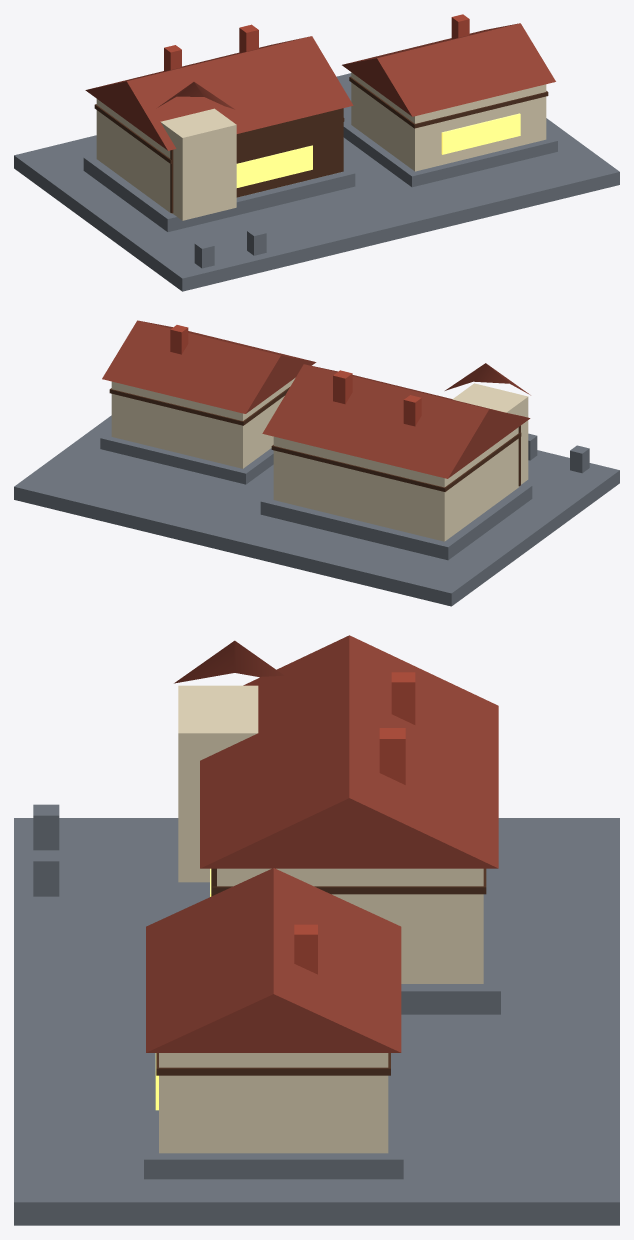
Rendered from lm_13_tran_hung_dao_french_villa_cluster.glb.
3 renders of one model, top to bottom at view 1: azimuth 30°, elevation 25°; view 2: azimuth 150°, elevation 25°; view 3: azimuth 270°, elevation 25°, orthographic. The views are drawn at different scales.
Visible parts, largest first — view 1: Split_Granite_Plinth_And_Gate, Mansard_And_Gable_Roofs, Villa_Stucco_Walls, Half_Timber_Trim, Warm_Villa_Windows, Brick_Fireplace_Chimneys; view 2: Split_Granite_Plinth_And_Gate, Mansard_And_Gable_Roofs, Villa_Stucco_Walls, Half_Timber_Trim, Brick_Fireplace_Chimneys; view 3: Split_Granite_Plinth_And_Gate, Mansard_And_Gable_Roofs, Villa_Stucco_Walls, Half_Timber_Trim, Brick_Fireplace_Chimneys.
Boxes of the visible parts, x1,y1,x2,y2 form: Split_Granite_Plinth_And_Gate: (14,73,619,291); Mansard_And_Gable_Roofs: (85,23,555,150); Villa_Stucco_Walls: (96,72,546,220); Half_Timber_Trim: (94,76,548,213); Warm_Villa_Windows: (236,113,520,187); Brick_Fireplace_Chimneys: (164,14,469,71); Split_Granite_Plinth_And_Gate: (14,415,619,606); Mansard_And_Gable_Roofs: (102,320,530,478); Villa_Stucco_Walls: (111,377,528,541); Half_Timber_Trim: (109,387,521,491); Brick_Fireplace_Chimneys: (170,325,421,426); Split_Granite_Plinth_And_Gate: (14,804,619,1225); Mansard_And_Gable_Roofs: (146,635,498,1052); Villa_Stucco_Walls: (159,685,483,1153); Half_Timber_Trim: (156,868,486,1075); Brick_Fireplace_Chimneys: (294,672,415,974).
Size of the model in its own units: 42 by 13.5 by 28.
